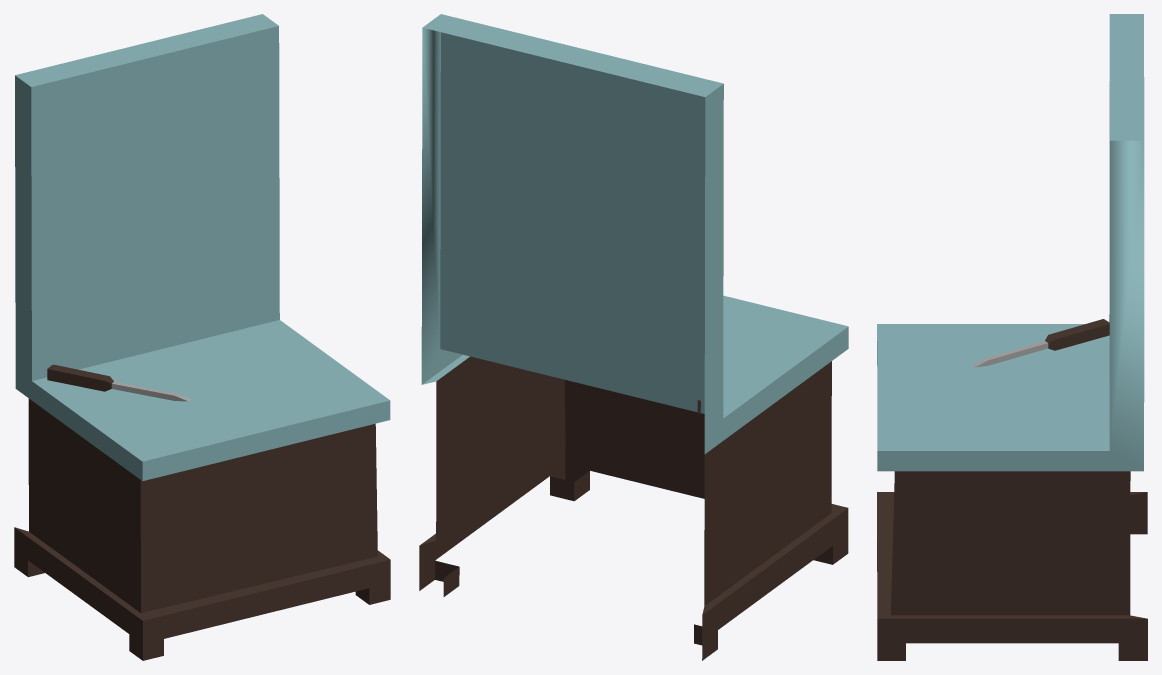
File: A3D_Etabli_de_diag_.fbx
3 views of the same model, side by side, from view 1: azimuth 30°, elevation 25°; view 2: azimuth 150°, elevation 25°; view 3: azimuth 270°, elevation 25° (orthographic). The views are drawn at different scales.
Parts seen in each view (by area): view 1: pCube193; view 2: pCube193; view 3: pCube193.
Part boxes in pixels (x1,y1,x2,y2): pCube193: [14, 14, 390, 660]; pCube193: [419, 14, 848, 660]; pCube193: [877, 14, 1147, 660].
Size of the model in its own units: 25.26 by 47.83 by 22.57.
